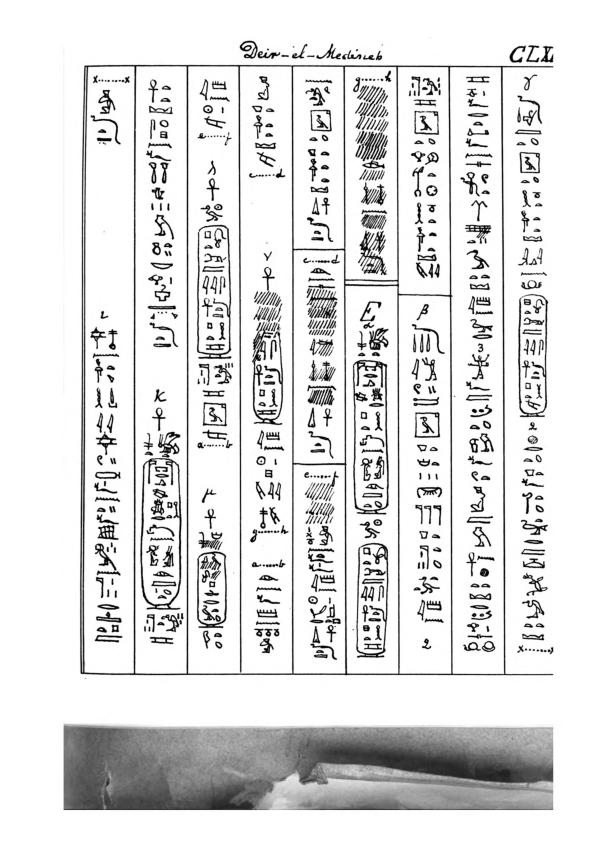circle: (141, 457, 185, 611), (350, 357, 391, 517), (193, 224, 235, 362), (514, 293, 551, 420), (354, 541, 390, 659), (251, 331, 287, 428), (195, 550, 228, 629)
